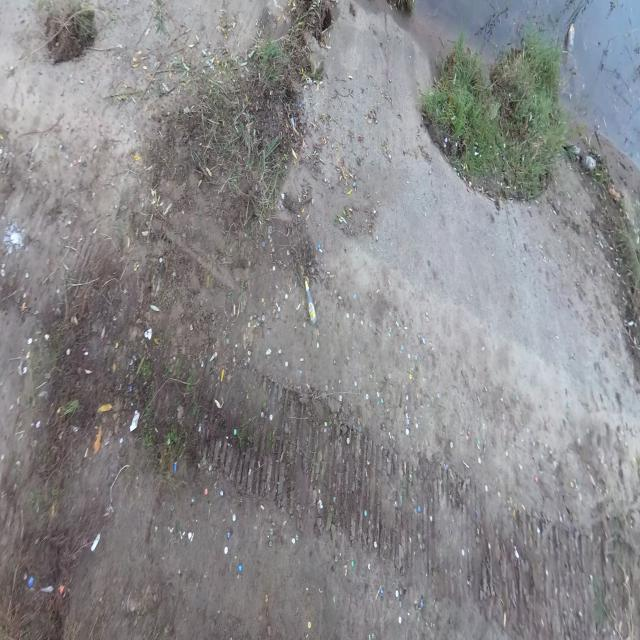rubbish: (304, 278, 319, 326), (581, 153, 597, 177), (565, 22, 574, 53)
